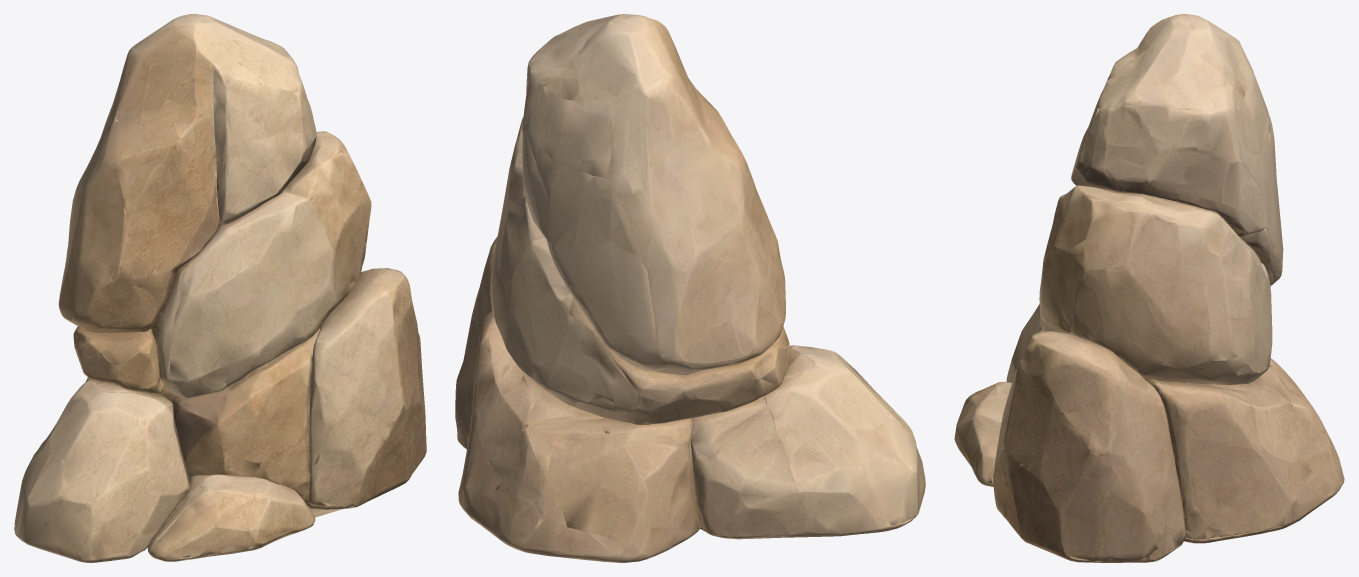
The model's file is upm_mu5vzmg145e.glb.
3 views of the same model, side by side, from view 1: azimuth 30°, elevation 25°; view 2: azimuth 150°, elevation 25°; view 3: azimuth 270°, elevation 25° (orthographic). The views are drawn at different scales.
Bounding box in the file's own units: 1.8 × 1.9 × 1.48.
Materials: 1 (1 with a texture image).
